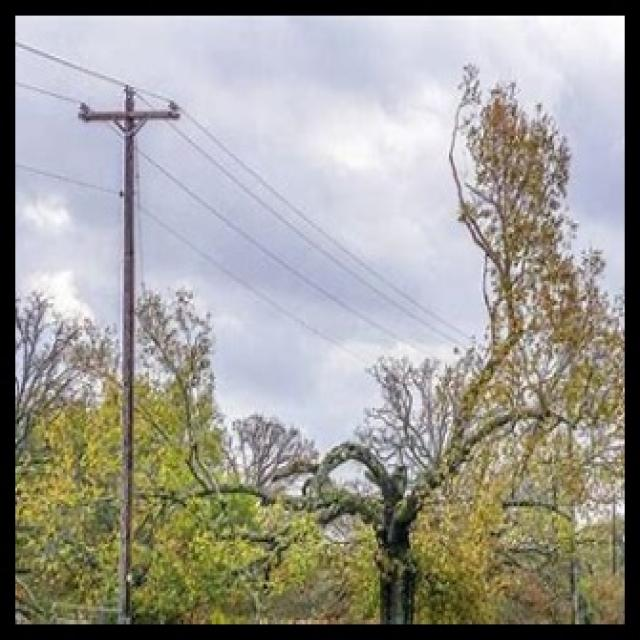utility poles: (81, 65, 179, 627)
